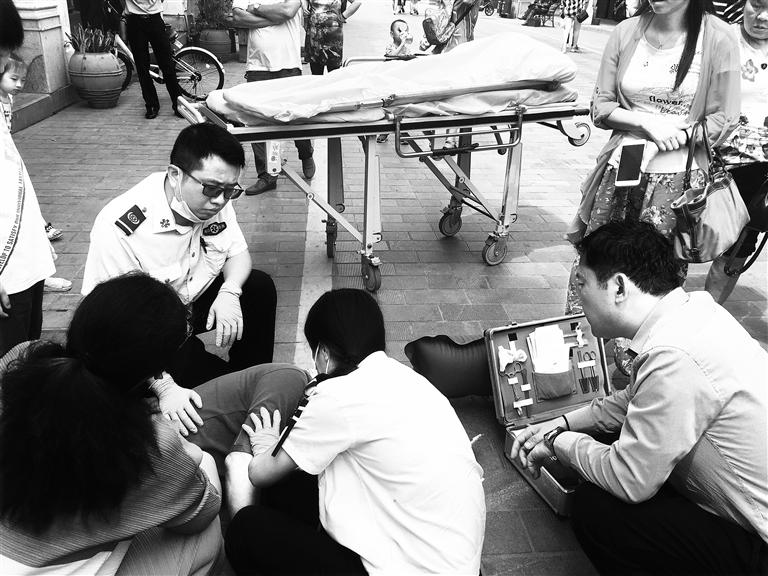FallenBody: (60, 293, 301, 515)
